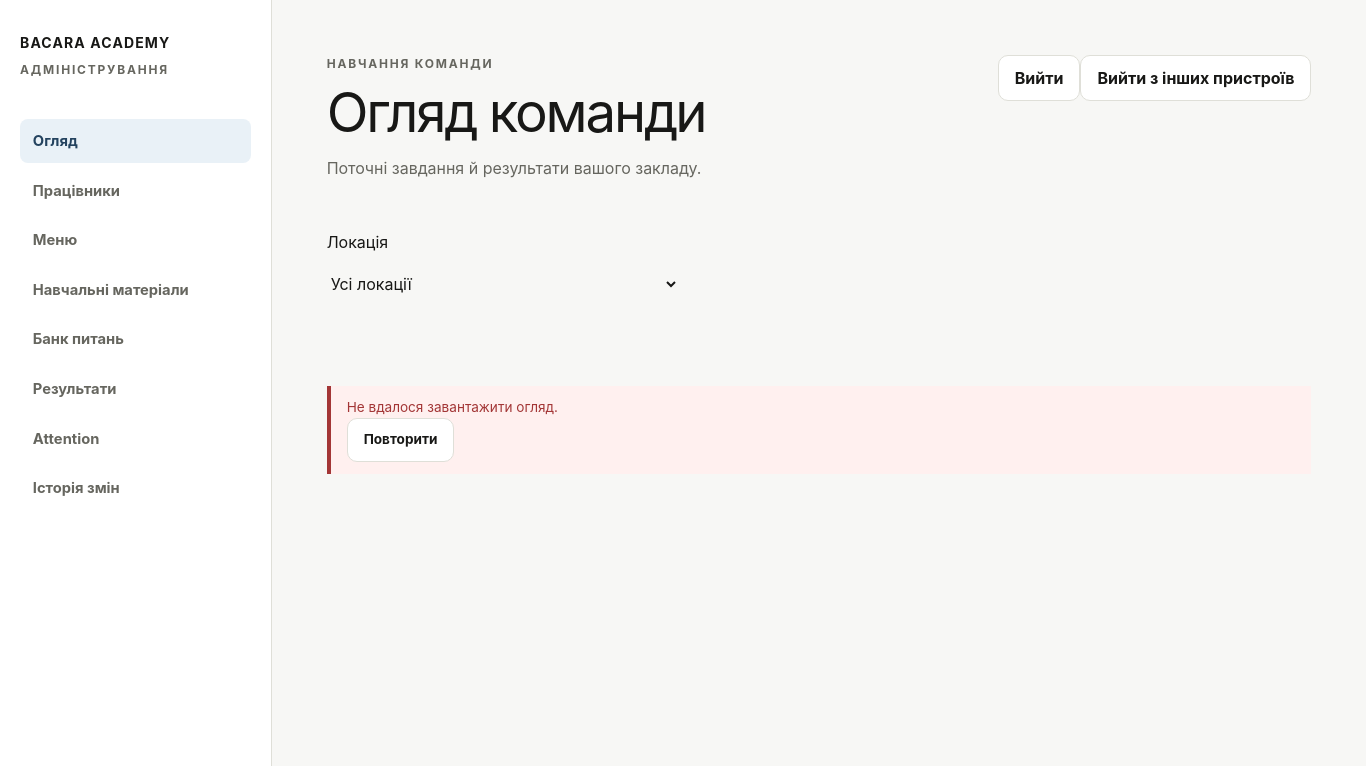
Test case: retries an API failure without showing fake zero counts
Expected: the message reads "Не вдалося завантажити огляд.", [347, 399, 558, 415]
What coordinates should you click on to do the following:
click the button "Повторити"
I would click on:
 (400, 440)
Its box is [347, 418, 454, 462].
(page scrolled)
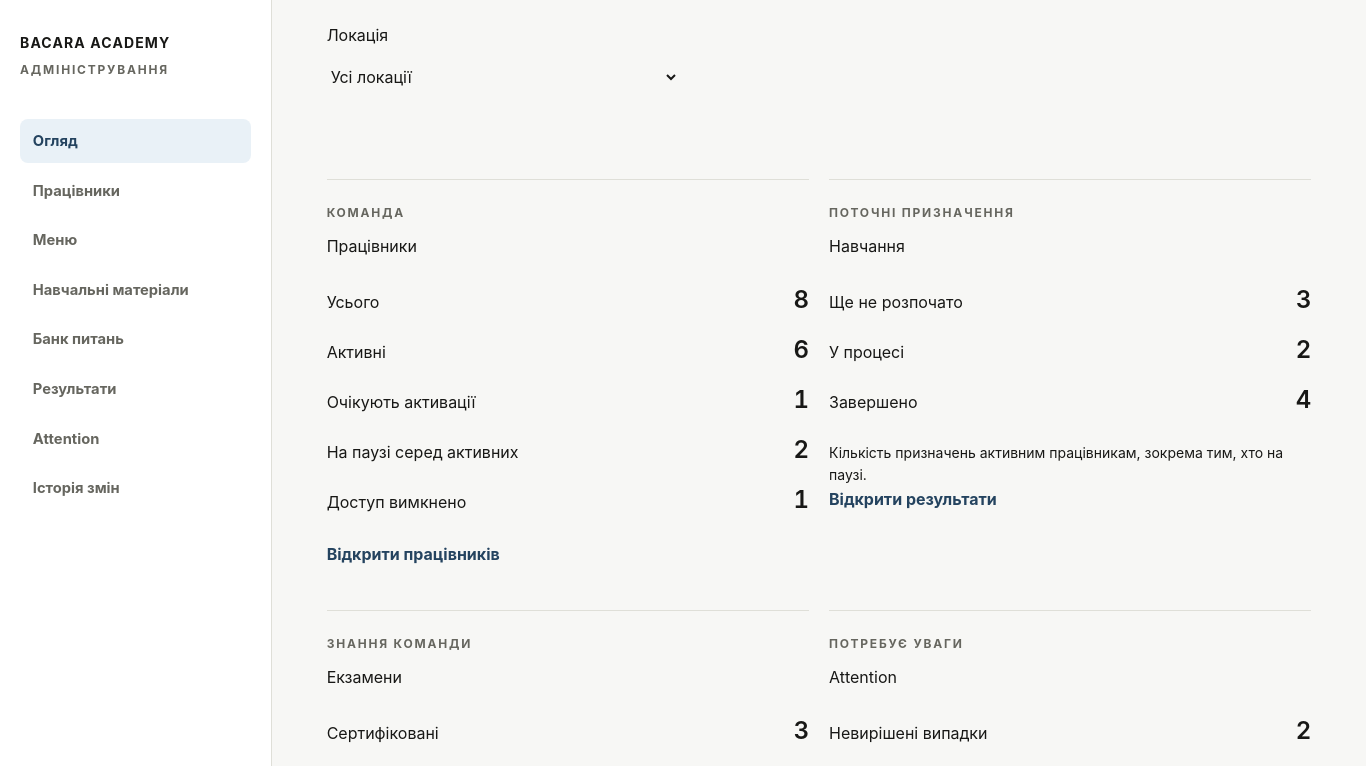
Expected: the element "Працівники" is shown, [327, 179, 809, 590]
